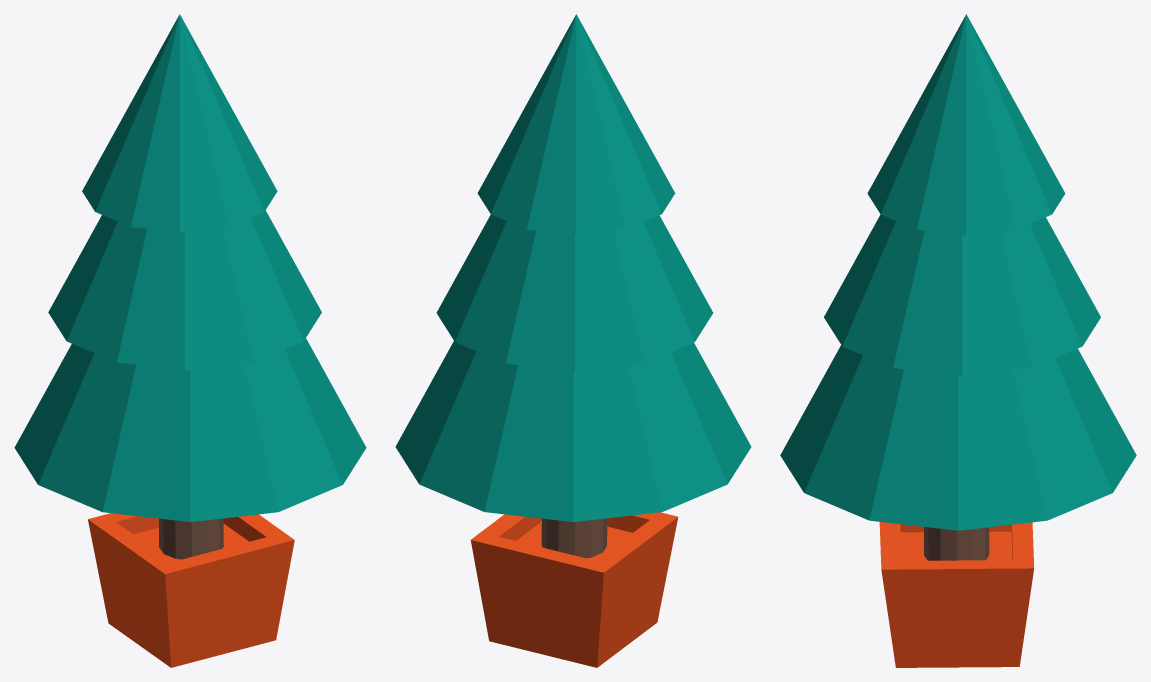
Rendered from christmas-tree-base.glb.
The picture shows the model from 3 angles, left to right: view 1: azimuth 30°, elevation 25°; view 2: azimuth 150°, elevation 25°; view 3: azimuth 270°, elevation 25°; orthographic projection.
Visible parts, largest first — view 1: group946655741, group1273411150, group1295466181, group1860328650, group859175323; view 2: group946655741, group1273411150, group1295466181, group1860328650, group859175323; view 3: group946655741, group1273411150, group1295466181, group1860328650, group859175323.
Boxes of the visible parts, x1=… form: group946655741: x1=14, y1=338, x2=366, y2=521; group1273411150: x1=48, y1=210, x2=321, y2=370; group1295466181: x1=82, y1=14, x2=277, y2=232; group1860328650: x1=88, y1=513, x2=294, y2=667; group859175323: x1=159, y1=518, x2=223, y2=559; group946655741: x1=395, y1=341, x2=751, y2=521; group1273411150: x1=436, y1=214, x2=713, y2=371; group1295466181: x1=477, y1=14, x2=675, y2=234; group1860328650: x1=470, y1=512, x2=678, y2=667; group859175323: x1=541, y1=518, x2=607, y2=558; group946655741: x1=780, y1=345, x2=1136, y2=530; group1273411150: x1=824, y1=214, x2=1100, y2=375; group1295466181: x1=867, y1=14, x2=1065, y2=235; group1860328650: x1=879, y1=522, x2=1034, y2=667; group859175323: x1=924, y1=527, x2=989, y2=560.
Bounding box in the file's own units: 0.1 × 0.1934 × 0.1.
